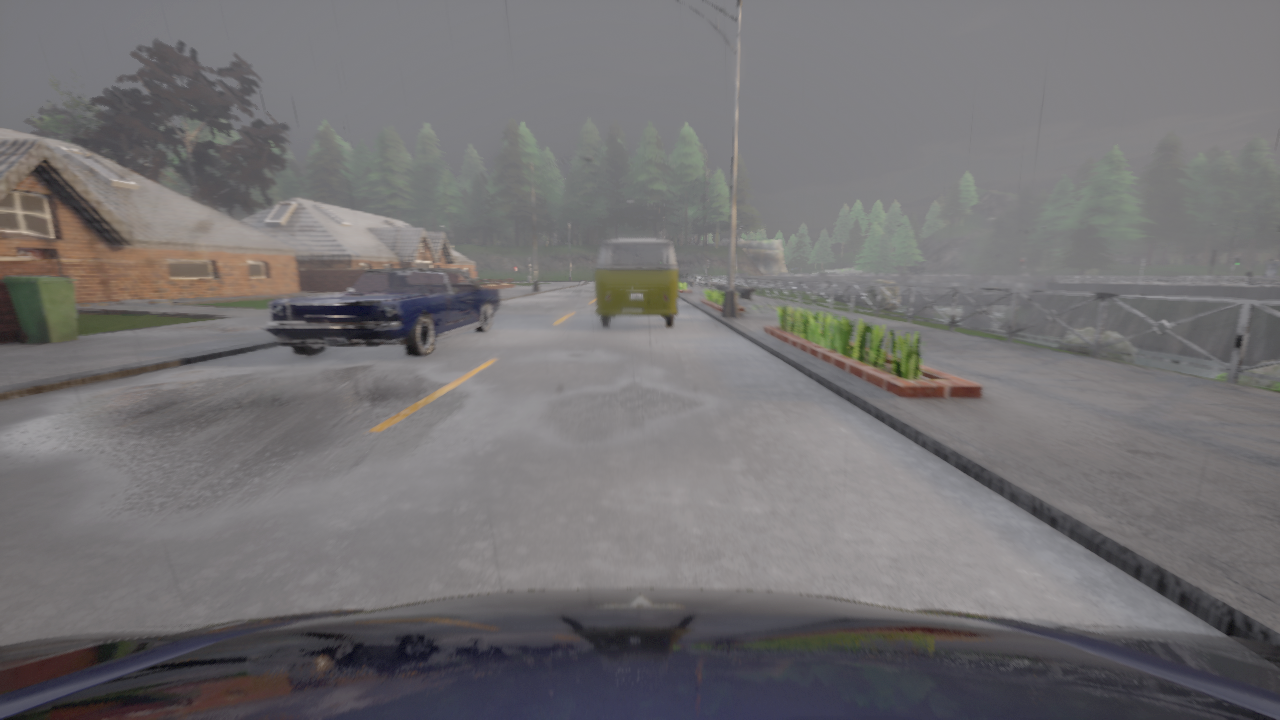cyclist: (0, 588, 1279, 719), (262, 268, 499, 356), (596, 238, 677, 326), (678, 269, 703, 281), (475, 269, 476, 277)
